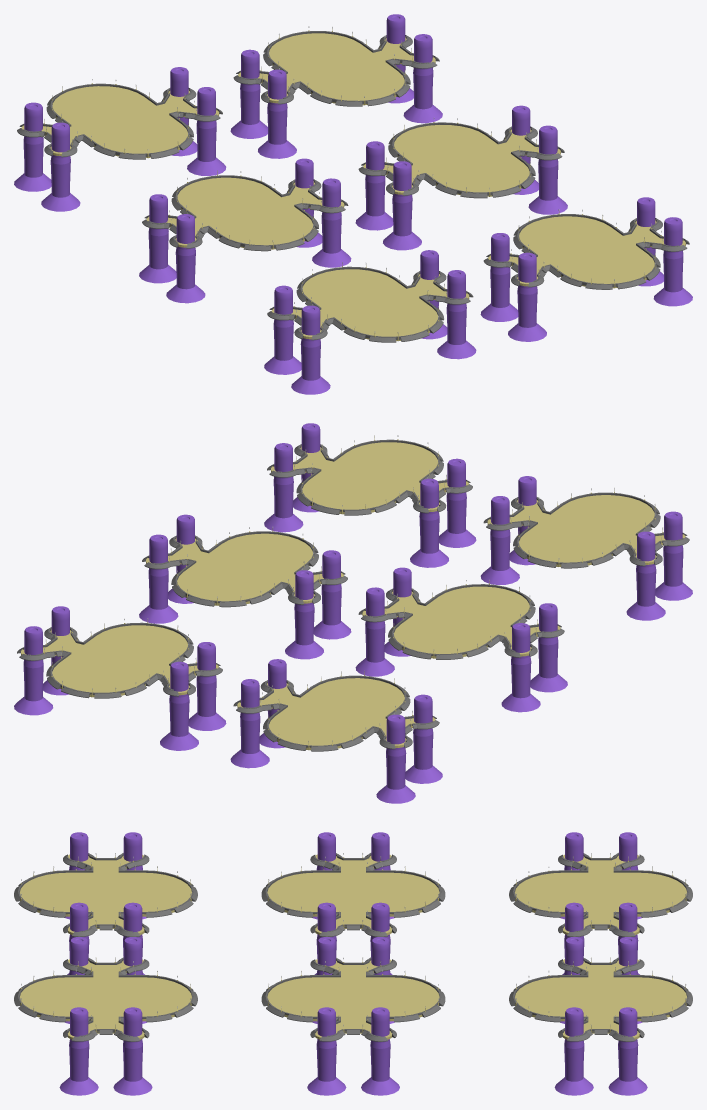
The model's file is landPad6_mesh.dae.
The picture shows the model from 3 angles, top to bottom: view 1: azimuth 30°, elevation 25°; view 2: azimuth 150°, elevation 25°; view 3: azimuth 270°, elevation 25°; orthographic projection.
Parts seen in each view (by area): view 1: PadSurface04, PadSurface02, PadSurface, PadSurface03, PadSurface01, PadSurface05, PadSurface_003, PadSurface05_003, PadSurface04_003, PadSurface02_003, PadSurface03_003, PadSurface01_003 (+12 smaller); view 2: PadSurface, PadSurface02, PadSurface03, PadSurface01, PadSurface05, PadSurface04, PadSurface04_003, PadSurface01_003, PadSurface_003, PadSurface02_003, PadSurface03_003, PadSurface05_003 (+12 smaller); view 3: PadSurface01, PadSurface05, PadSurface03, PadSurface02, PadSurface04, PadSurface, PadSurface04_003, PadSurface02_003, PadSurface_003, PadSurface05_003, PadSurface03_003, PadSurface01_003 (+12 smaller).
Boxes of the visible parts, x1=… form: PadSurface04: x1=488, y1=216, x2=685, y2=288; PadSurface02: x1=363, y1=125, x2=560, y2=196; PadSurface: x1=238, y1=33, x2=435, y2=105; PadSurface03: x1=146, y1=177, x2=344, y2=249; PadSurface01: x1=21, y1=86, x2=219, y2=157; PadSurface05: x1=271, y1=269, x2=469, y2=341; PadSurface_003: x1=230, y1=14, x2=442, y2=158; PadSurface05_003: x1=264, y1=250, x2=476, y2=394; PadSurface04_003: x1=480, y1=197, x2=692, y2=341; PadSurface02_003: x1=355, y1=105, x2=567, y2=250; PadSurface03_003: x1=139, y1=158, x2=351, y2=303; PadSurface01_003: x1=14, y1=67, x2=226, y2=211; PadSurface: x1=21, y1=625, x2=218, y2=697; PadSurface02: x1=146, y1=533, x2=343, y2=605; PadSurface03: x1=362, y1=586, x2=560, y2=658; PadSurface01: x1=237, y1=678, x2=435, y2=750; PadSurface05: x1=487, y1=495, x2=685, y2=566; PadSurface04: x1=271, y1=442, x2=468, y2=514; PadSurface04_003: x1=264, y1=423, x2=476, y2=567; PadSurface01_003: x1=230, y1=659, x2=442, y2=803; PadSurface_003: x1=14, y1=606, x2=226, y2=750; PadSurface02_003: x1=139, y1=514, x2=351, y2=659; PadSurface03_003: x1=355, y1=567, x2=567, y2=712; PadSurface05_003: x1=480, y1=476, x2=692, y2=620; PadSurface01: x1=515, y1=854, x2=686, y2=934; PadSurface05: x1=20, y1=854, x2=191, y2=934; PadSurface03: x1=267, y1=854, x2=439, y2=934; PadSurface02: x1=267, y1=959, x2=439, y2=1039; PadSurface04: x1=20, y1=959, x2=191, y2=1039; PadSurface: x1=515, y1=959, x2=686, y2=1039; PadSurface04_003: x1=59, y1=937, x2=152, y2=1095; PadSurface02_003: x1=307, y1=937, x2=399, y2=1095; PadSurface_003: x1=554, y1=937, x2=647, y2=1095; PadSurface05_003: x1=65, y1=832, x2=146, y2=974; PadSurface03_003: x1=313, y1=832, x2=394, y2=974; PadSurface01_003: x1=560, y1=832, x2=641, y2=974.
Size of the model in its own units: 550 by 823 by 102.
